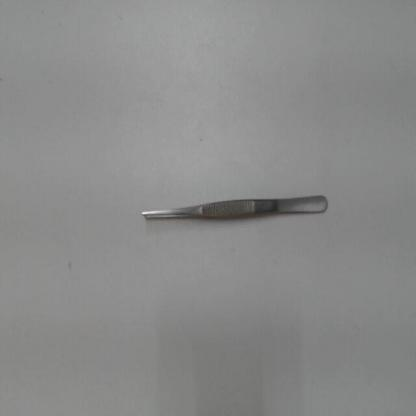Gillies Toothed Dissector: (137, 189, 330, 227)
